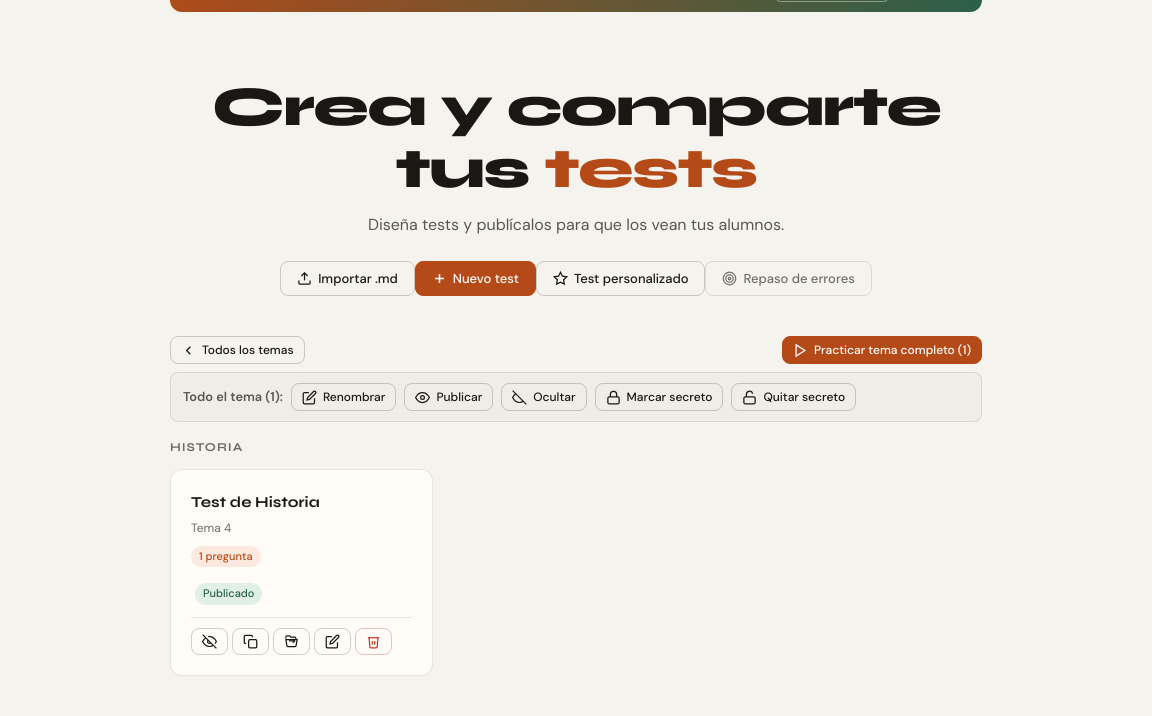
Test: HomeView — mover un test de tema › si el guardado falla, muestra el error y no cierra
(page scrolled)
Step 1. Click the button named "Mover a otro tema" → (292, 642), box [273,628,310,655]
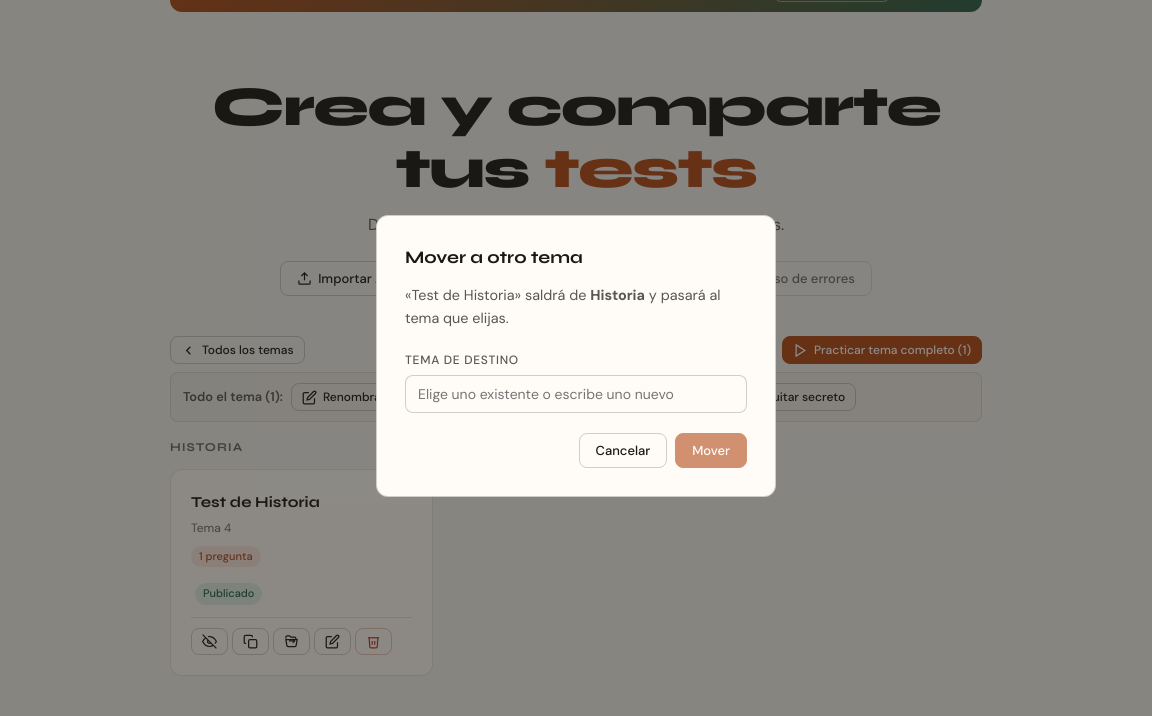
Step 2. Type "Lengua" into the field with placeholder "Elige uno existente o escribe uno nuevo" → (576, 394), box [405,375,747,413]
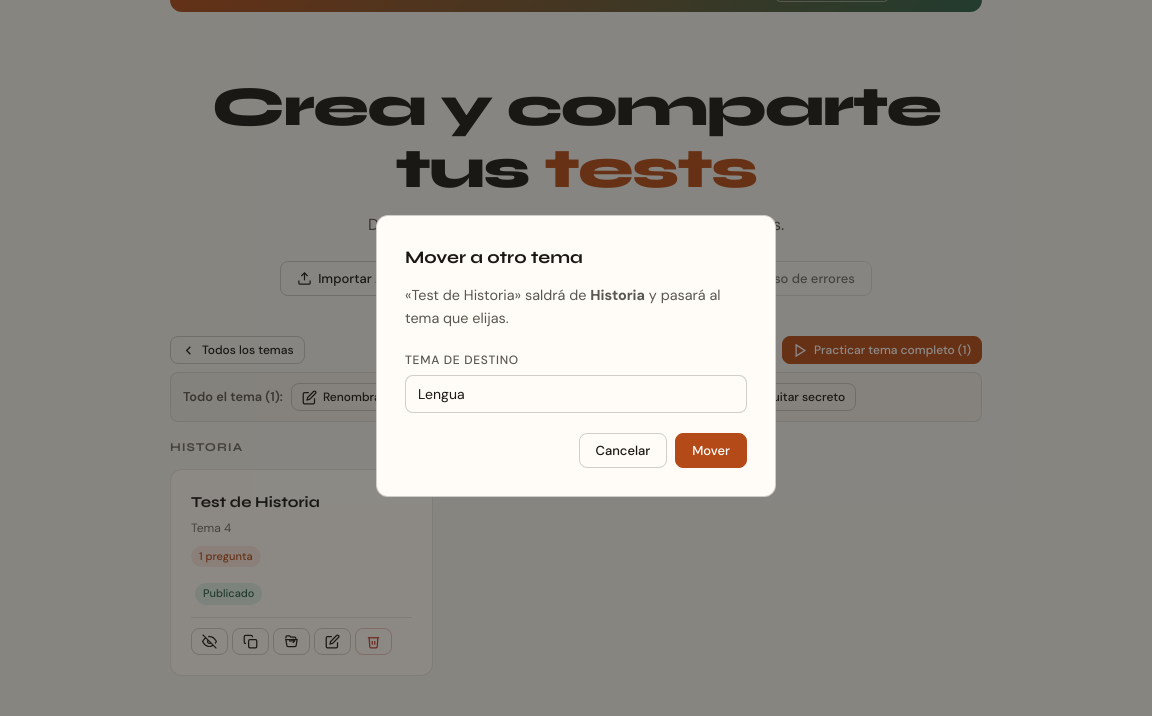
Step 3. Click the button "Mover" → (711, 450), box [675,433,747,468]
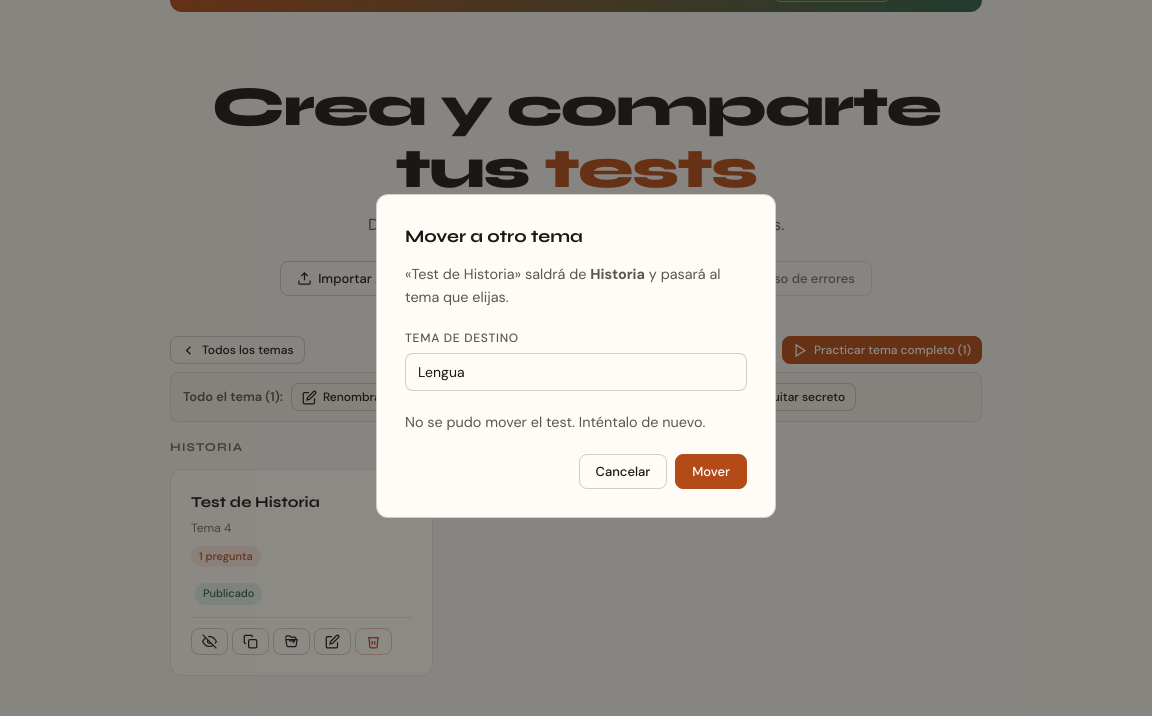
Expected: the element with class "move-topic-modal" is shown, [376,194,776,518]
Expected: the text "No se pudo mover el test. Inténtalo de nuevo." is shown, [405,411,747,434]
